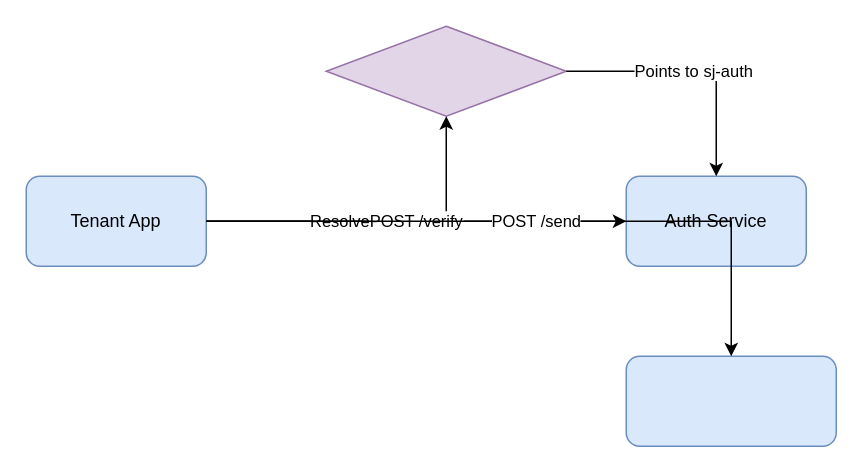
Some shapes in this 863 by 473 pixel diagram are drawn without their labels. The box of each missing label's shape, as (x1, y1, x2, y2) in pixels:
Docker DNS Resolver: (325, 25, 566, 116)
Notification Service: (625, 355, 836, 446)
